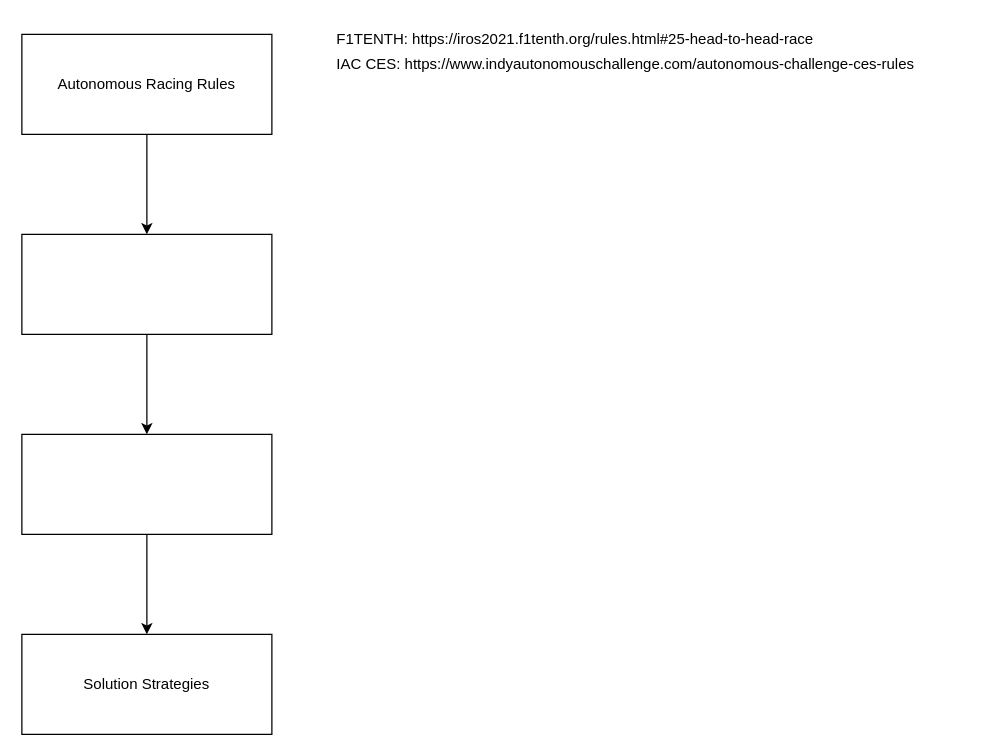
Image size: 981x756. Some labels were removed from this diagram. Each missing label, with the centre of its shape:
"Definition of Game Type" belongs at (146,283).
"Simplifications" belongs at (146,483).
